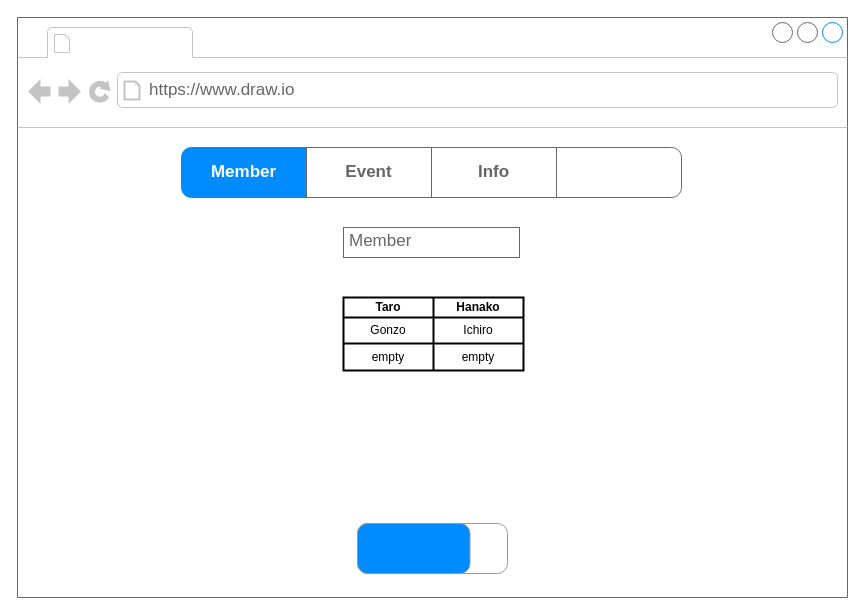
Some shapes in this 865 by 615 pixel diagram are drawn without their labels. The shapes that lost their labels are listed below. From the top down, each one's centre as x and y in pixels, then its label:
(x=132, y=42): Page 1
(x=619, y=172): Setting
(x=432, y=548): Edit Mode
